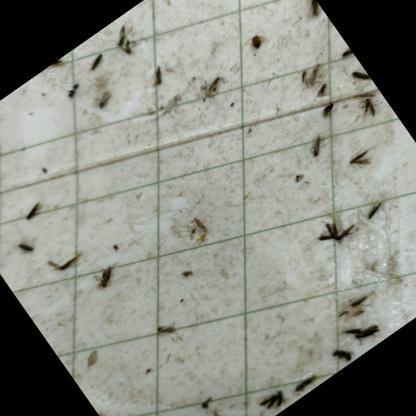prays_oleae: (309, 202, 368, 268), (336, 302, 386, 352), (142, 55, 184, 100), (317, 327, 358, 370), (295, 121, 332, 164), (350, 90, 386, 133), (110, 26, 146, 66), (284, 364, 320, 400), (256, 381, 293, 416), (87, 256, 122, 293), (150, 312, 184, 349), (296, 53, 330, 89), (304, 72, 335, 104), (16, 196, 48, 226), (80, 46, 112, 76), (344, 144, 374, 174), (346, 60, 374, 91), (14, 235, 40, 264), (361, 198, 385, 222), (318, 100, 341, 124), (300, 0, 326, 21), (336, 43, 358, 66), (0, 136, 9, 171)
